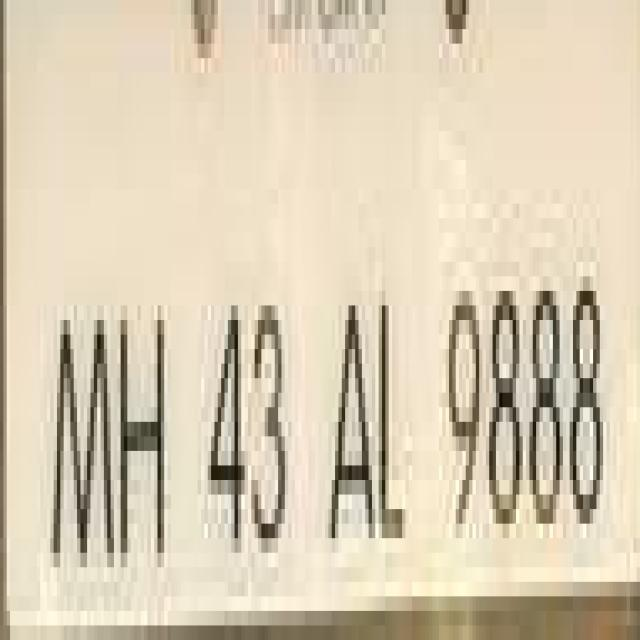license_plate: (0, 29, 623, 640)
